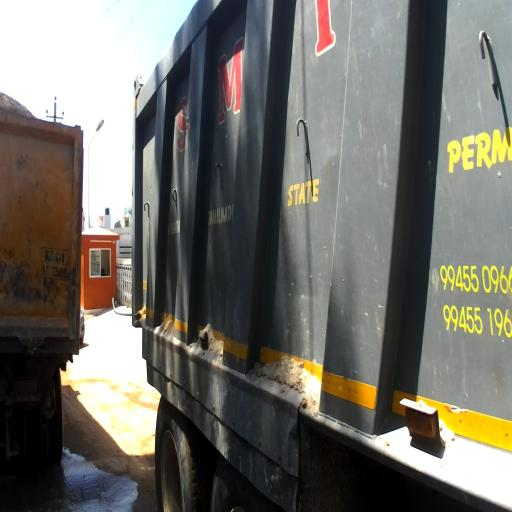street_light_0: (88, 119, 104, 148)
